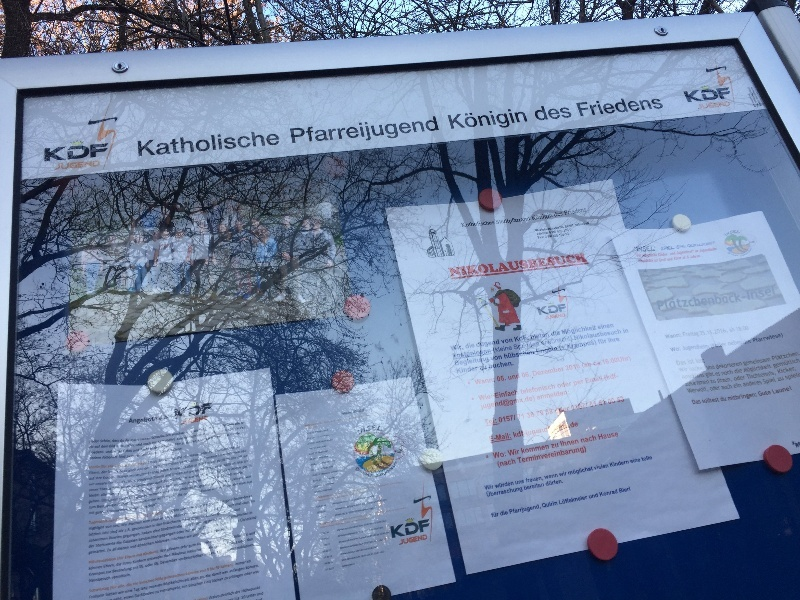text: (97, 445, 112, 498), (113, 445, 128, 498), (129, 445, 144, 498), (145, 445, 160, 498), (161, 445, 176, 498), (177, 445, 192, 498), (193, 445, 208, 498), (209, 445, 224, 498), (225, 445, 240, 498), (97, 532, 112, 579), (113, 532, 128, 579), (129, 532, 144, 579), (145, 532, 160, 579), (161, 532, 176, 579), (177, 532, 192, 579), (193, 532, 208, 579), (209, 532, 224, 579), (225, 532, 240, 579), (241, 532, 256, 579), (241, 445, 254, 498), (241, 495, 257, 538), (97, 495, 112, 538), (113, 495, 128, 538), (129, 495, 144, 538), (145, 495, 160, 538), (161, 495, 176, 538), (177, 495, 192, 538), (193, 495, 208, 538), (209, 495, 224, 538), (225, 495, 240, 538), (97, 476, 112, 516), (113, 476, 128, 516), (129, 476, 144, 516), (145, 476, 160, 516), (161, 476, 176, 516), (177, 476, 192, 516), (193, 476, 208, 516), (209, 476, 224, 516), (225, 476, 240, 516), (97, 516, 112, 555), (113, 516, 128, 555), (129, 516, 144, 555), (145, 516, 160, 555), (161, 516, 176, 555), (177, 516, 192, 555), (193, 516, 208, 555), (209, 516, 224, 555), (225, 516, 240, 555), (241, 516, 256, 555), (97, 422, 112, 460), (113, 422, 128, 460), (129, 422, 144, 460), (145, 422, 160, 460), (161, 422, 176, 460), (177, 422, 192, 460), (193, 422, 208, 460), (209, 422, 224, 460), (225, 422, 240, 460), (241, 476, 254, 516), (305, 116, 320, 144), (321, 116, 336, 144), (337, 116, 352, 144), (353, 116, 368, 144), (369, 116, 384, 144), (385, 116, 400, 144), (401, 116, 416, 144), (417, 116, 432, 144), (145, 130, 160, 158), (161, 130, 176, 158), (177, 130, 192, 158), (193, 130, 208, 158), (209, 130, 224, 158), (225, 130, 240, 158), (241, 130, 256, 158), (257, 130, 272, 158), (290, 116, 304, 144), (657, 286, 672, 311), (673, 286, 688, 311), (689, 286, 704, 311), (705, 286, 720, 311), (721, 286, 736, 311), (737, 286, 752, 311), (753, 286, 768, 311), (89, 445, 96, 498), (449, 253, 464, 277), (465, 253, 480, 277), (481, 253, 496, 277), (497, 253, 512, 277), (513, 253, 528, 277), (529, 253, 544, 277), (545, 253, 560, 277), (561, 253, 576, 277), (89, 532, 96, 579), (88, 476, 96, 516), (577, 96, 592, 117), (593, 96, 608, 117), (609, 96, 624, 117), (625, 96, 640, 117), (641, 96, 656, 117), (449, 109, 464, 130), (465, 109, 480, 130), (481, 109, 496, 130), (497, 109, 512, 130), (513, 109, 528, 130), (385, 461, 400, 482), (89, 495, 96, 538), (401, 519, 416, 539), (49, 143, 64, 162), (65, 143, 80, 162), (81, 143, 96, 162), (273, 130, 283, 158), (417, 519, 431, 539), (89, 516, 96, 555), (257, 516, 264, 555), (545, 105, 560, 123), (529, 446, 544, 464), (545, 446, 560, 464), (561, 446, 576, 464), (97, 143, 111, 162), (241, 422, 248, 460), (577, 253, 588, 277), (689, 87, 704, 103), (705, 87, 720, 103), (561, 105, 574, 123), (90, 422, 96, 460), (481, 396, 496, 411), (497, 396, 512, 411), (513, 396, 528, 411), (721, 87, 735, 103), (433, 116, 441, 144), (513, 427, 528, 441), (529, 427, 544, 441), (517, 446, 528, 464), (577, 446, 588, 464), (545, 303, 560, 316), (513, 504, 528, 516), (545, 389, 560, 401), (561, 325, 576, 337), (577, 325, 592, 337), (401, 534, 416, 546), (391, 519, 400, 539), (769, 286, 776, 311), (657, 96, 665, 117), (138, 130, 144, 158), (498, 458, 512, 470), (785, 358, 800, 369), (577, 466, 592, 477), (577, 339, 592, 350), (577, 329, 592, 340), (593, 329, 608, 340), (465, 357, 480, 368), (353, 425, 368, 436), (145, 415, 160, 426), (529, 504, 542, 516), (369, 425, 383, 436), (130, 415, 144, 426), (65, 161, 80, 171), (81, 161, 96, 171), (737, 392, 752, 402), (753, 364, 768, 374), (753, 333, 768, 343), (769, 333, 784, 343), (561, 495, 576, 505), (497, 487, 512, 497), (593, 356, 608, 366), (609, 356, 624, 366), (545, 366, 560, 376), (545, 336, 560, 346), (513, 342, 528, 352), (465, 349, 480, 359), (497, 216, 512, 226), (513, 216, 528, 226), (193, 416, 208, 426), (545, 312, 560, 322), (377, 461, 384, 482), (741, 248, 752, 261), (545, 346, 558, 357), (609, 329, 622, 340), (357, 467, 368, 480), (754, 90, 768, 100), (705, 101, 720, 110), (705, 395, 720, 404), (785, 373, 800, 382), (753, 371, 768, 380), (785, 352, 800, 361), (753, 358, 768, 367), (721, 362, 736, 371), (689, 344, 704, 353), (529, 445, 544, 454), (497, 433, 512, 442), (513, 351, 528, 360), (772, 358, 784, 369), (417, 534, 428, 546), (161, 415, 173, 426), (561, 336, 574, 346), (529, 483, 545, 491), (497, 346, 513, 354), (497, 481, 512, 489), (561, 440, 576, 448), (481, 340, 496, 348), (209, 592, 224, 600), (563, 207, 576, 216), (529, 477, 545, 484), (498, 415, 512, 423), (530, 333, 544, 341), (514, 335, 528, 343), (577, 495, 588, 505), (513, 487, 524, 497), (533, 366, 544, 376), (529, 342, 540, 352), (453, 349, 464, 359), (481, 349, 492, 359), (538, 105, 544, 123), (772, 386, 784, 395), (772, 352, 784, 361), (580, 435, 592, 444), (561, 389, 570, 401), (721, 384, 736, 391), (689, 387, 704, 394), (705, 372, 720, 379), (705, 329, 720, 336), (689, 241, 704, 248), (529, 396, 536, 411), (497, 362, 512, 369), (465, 220, 480, 227), (161, 586, 176, 593), (531, 213, 544, 221), (177, 578, 190, 586), (726, 392, 736, 402), (486, 487, 496, 497), (721, 101, 732, 110), (567, 339, 576, 350), (455, 357, 464, 368), (481, 357, 490, 368), (722, 369, 736, 376), (546, 479, 560, 486), (610, 460, 624, 467), (546, 409, 560, 416), (481, 378, 495, 385), (481, 220, 495, 227), (242, 587, 256, 594), (97, 576, 111, 583), (785, 367, 797, 375), (164, 578, 176, 586), (164, 573, 176, 581), (721, 377, 734, 384), (545, 501, 558, 508), (465, 366, 478, 373), (537, 303, 544, 316), (689, 374, 704, 380), (641, 246, 656, 252), (641, 456, 656, 462), (593, 464, 608, 470), (609, 373, 619, 382), (497, 376, 512, 382), (465, 343, 480, 349), (577, 207, 587, 216), (353, 408, 368, 414), (113, 574, 128, 580), (568, 466, 576, 477), (577, 403, 588, 411), (565, 363, 576, 371), (536, 346, 544, 357), (229, 574, 240, 582), (724, 230, 736, 237), (545, 474, 559, 480), (537, 389, 544, 401), (450, 345, 464, 351), (340, 543, 352, 550), (338, 532, 352, 538), (737, 373, 746, 382), (743, 358, 752, 367), (710, 384, 720, 392), (744, 364, 752, 374), (598, 433, 608, 441), (609, 433, 619, 441), (497, 451, 507, 459), (593, 375, 603, 383), (561, 381, 571, 389), (225, 592, 235, 600), (184, 416, 192, 426), (737, 326, 750, 332), (339, 538, 352, 544), (561, 303, 567, 316), (517, 413, 528, 420), (485, 418, 496, 425), (581, 362, 592, 369), (597, 338, 608, 345), (597, 323, 608, 330), (44, 143, 48, 162), (721, 397, 736, 402), (689, 367, 704, 372), (353, 518, 368, 523), (353, 515, 368, 520), (337, 500, 352, 505), (257, 592, 272, 597), (769, 371, 777, 380), (705, 248, 717, 254), (599, 489, 608, 497), (609, 489, 618, 497), (561, 406, 570, 414), (504, 351, 512, 360), (758, 391, 768, 398), (742, 381, 752, 388), (753, 381, 763, 388), (710, 343, 720, 350), (705, 241, 715, 248), (625, 356, 632, 366), (353, 543, 363, 550), (338, 527, 352, 532), (354, 497, 368, 502), (386, 409, 400, 414), (501, 511, 512, 517), (629, 458, 640, 464), (609, 337, 620, 343), (593, 339, 599, 350), (193, 582, 204, 588), (149, 584, 160, 590), (707, 365, 720, 370), (643, 253, 656, 258), (515, 480, 528, 485), (371, 527, 384, 532), (323, 549, 336, 554), (337, 506, 350, 511), (97, 588, 110, 593), (684, 87, 688, 103), (776, 367, 784, 375), (753, 87, 757, 103), (545, 213, 553, 221), (177, 573, 185, 581), (785, 386, 792, 395), (769, 377, 776, 386), (745, 371, 752, 380), (521, 445, 528, 454), (489, 433, 496, 442), (97, 161, 103, 171), (753, 104, 768, 108), (660, 258, 672, 263), (678, 250, 688, 256), (662, 246, 672, 252), (550, 331, 560, 337), (342, 557, 352, 563), (340, 551, 352, 556), (401, 507, 416, 511), (321, 510, 336, 514), (388, 482, 400, 487), (321, 472, 336, 476), (241, 596, 256, 600), (244, 572, 256, 577), (212, 572, 224, 577), (145, 579, 155, 585), (561, 312, 567, 322), (658, 253, 672, 257), (513, 449, 520, 457), (536, 410, 544, 417), (585, 375, 592, 383), (488, 362, 496, 369), (322, 537, 336, 541), (321, 525, 335, 529), (322, 461, 336, 465), (210, 567, 224, 571), (689, 332, 700, 337), (677, 245, 688, 250), (485, 485, 496, 490), (501, 339, 512, 344), (357, 487, 368, 492), (353, 415, 364, 420), (213, 578, 224, 583), (762, 377, 768, 386), (737, 362, 743, 371), (759, 100, 768, 106), (529, 351, 535, 360), (691, 255, 704, 259), (641, 259, 654, 263), (577, 223, 590, 227), (369, 467, 373, 480), (387, 510, 400, 514), (323, 483, 336, 487), (59, 161, 64, 171), (753, 392, 758, 402), (769, 364, 774, 374), (545, 227, 555, 232), (342, 563, 352, 568), (369, 534, 379, 539), (321, 498, 331, 503), (246, 594, 256, 599), (246, 565, 256, 570), (230, 568, 240, 573), (721, 329, 728, 336), (529, 412, 536, 419), (513, 373, 520, 380), (457, 366, 464, 373), (89, 576, 96, 583), (692, 400, 704, 404), (676, 362, 688, 366), (756, 103, 768, 107), (570, 420, 576, 428), (600, 400, 608, 406), (554, 406, 560, 414), (593, 325, 597, 337), (564, 229, 576, 233), (564, 224, 576, 228), (552, 212, 560, 218), (356, 549, 368, 553), (340, 518, 352, 522), (356, 503, 368, 507), (727, 341, 736, 346), (683, 344, 688, 353), (705, 344, 710, 353), (673, 334, 682, 339), (551, 444, 560, 449), (545, 445, 550, 454), (535, 227, 544, 232), (321, 532, 336, 535), (337, 523, 352, 526), (305, 424, 320, 427), (225, 564, 234, 569), (119, 584, 128, 589), (565, 233, 576, 237), (341, 411, 352, 415), (325, 562, 336, 566), (373, 521, 384, 525), (309, 452, 320, 456), (309, 442, 320, 446), (133, 582, 144, 586), (674, 257, 688, 260), (625, 487, 631, 494), (545, 427, 548, 441), (617, 397, 624, 403), (609, 398, 616, 404), (577, 380, 583, 387), (521, 372, 528, 378), (370, 541, 384, 544), (322, 505, 336, 508), (776, 377, 784, 382), (710, 380, 720, 384), (696, 380, 704, 385), (696, 359, 704, 364), (744, 340, 752, 345), (673, 347, 681, 352), (571, 403, 576, 411), (545, 333, 550, 341), (326, 568, 336, 572), (374, 552, 384, 556), (353, 492, 363, 496), (321, 429, 329, 434), (134, 588, 144, 592), (547, 235, 560, 238), (371, 553, 384, 556), (323, 544, 336, 547), (323, 467, 336, 470), (323, 445, 336, 448), (700, 101, 704, 110), (732, 373, 736, 382), (737, 369, 743, 375), (682, 374, 688, 380), (716, 362, 720, 371), (679, 369, 688, 373), (695, 250, 704, 254), (593, 493, 599, 499), (509, 504, 512, 516), (561, 471, 567, 477), (513, 458, 516, 470), (593, 435, 597, 444), (604, 373, 608, 382), (356, 556, 368, 559), (324, 556, 336, 559), (353, 538, 359, 544), (321, 495, 330, 499), (324, 489, 336, 492), (737, 383, 742, 390), (721, 343, 726, 350), (665, 334, 672, 339), (729, 252, 736, 257), (619, 487, 624, 494), (475, 378, 480, 385), (609, 323, 614, 330), (177, 586, 182, 593), (89, 588, 96, 593), (373, 546, 384, 549), (341, 495, 352, 498), (325, 421, 336, 424), (750, 87, 752, 103), (524, 483, 528, 491), (508, 449, 512, 457), (577, 363, 581, 371), (492, 346, 496, 354), (476, 340, 480, 348), (536, 232, 544, 236), (321, 522, 329, 526), (312, 463, 320, 467), (200, 576, 208, 580), (216, 566, 224, 570), (689, 360, 695, 365), (730, 327, 736, 332), (689, 250, 694, 256), (561, 366, 564, 376), (541, 336, 544, 346), (497, 356, 503, 361), (545, 236, 560, 238), (550, 231, 560, 234), (529, 216, 532, 226), (374, 540, 384, 543), (353, 532, 358, 538), (342, 513, 352, 516), (369, 495, 375, 500), (353, 490, 368, 492), (321, 468, 336, 470), (321, 441, 336, 443), (310, 432, 320, 435), (186, 571, 192, 576), (193, 571, 199, 576), (139, 579, 144, 585), (705, 387, 709, 394), (716, 377, 720, 384), (689, 382, 696, 386), (700, 329, 704, 336), (625, 460, 629, 467), (593, 401, 597, 408), (508, 373, 512, 380), (553, 234, 560, 238), (329, 567, 336, 571), (361, 554, 368, 558), (361, 536, 368, 540), (377, 499, 384, 503), (321, 450, 328, 454), (338, 420, 352, 422), (313, 422, 320, 426), (257, 587, 261, 594), (701, 395, 704, 404), (311, 458, 320, 461), (327, 439, 336, 442), (343, 418, 352, 421), (183, 586, 192, 589), (247, 560, 256, 563), (307, 438, 320, 440), (307, 433, 320, 435), (705, 380, 710, 385), (737, 341, 742, 346), (683, 332, 688, 337), (491, 513, 496, 518), (491, 356, 496, 361), (385, 531, 390, 536), (363, 507, 368, 512), (369, 507, 374, 512), (353, 510, 358, 515), (331, 496, 336, 501), (315, 429, 320, 434), (241, 568, 246, 573), (235, 561, 240, 566), (241, 561, 246, 566), (493, 451, 496, 459), (557, 381, 560, 389), (481, 366, 487, 370), (561, 345, 565, 351), (497, 340, 500, 348), (538, 236, 544, 240), (552, 231, 560, 234), (360, 525, 368, 528), (353, 526, 359, 530), (312, 474, 320, 477), (241, 574, 244, 582), (193, 577, 199, 581), (200, 570, 208, 573), (574, 329, 576, 340), (325, 516, 336, 518), (325, 505, 336, 507), (309, 428, 320, 430), (529, 109, 530, 130), (769, 391, 772, 398), (733, 383, 736, 390), (737, 230, 740, 237), (541, 501, 544, 508), (561, 479, 564, 486), (461, 220, 464, 227), (361, 549, 368, 552), (393, 509, 400, 512), (313, 485, 320, 488), (313, 480, 320, 483), (329, 466, 336, 469), (313, 437, 320, 440), (715, 372, 720, 376), (683, 256, 688, 260), (667, 258, 672, 262), (625, 329, 629, 334), (555, 226, 560, 230), (380, 531, 384, 536), (326, 532, 336, 534), (331, 520, 336, 524), (374, 501, 384, 503), (379, 484, 384, 488), (369, 487, 373, 492), (315, 490, 320, 494), (310, 448, 320, 450), (326, 435, 336, 437), (235, 591, 240, 595), (156, 577, 160, 582), (769, 358, 771, 367), (750, 94, 752, 103), (701, 248, 704, 254), (673, 246, 676, 252), (637, 246, 640, 252), (589, 493, 592, 499), (353, 557, 356, 563), (330, 555, 336, 558), (359, 510, 368, 512), (346, 512, 352, 515), (362, 503, 368, 506), (330, 477, 336, 480), (189, 582, 192, 588), (129, 574, 132, 580), (577, 440, 579, 448), (577, 420, 579, 428), (513, 415, 515, 423), (561, 233, 565, 237), (545, 232, 549, 236), (369, 547, 373, 551), (364, 542, 368, 546), (380, 526, 384, 530), (321, 457, 329, 459), (225, 571, 229, 575), (113, 586, 117, 590), (363, 514, 368, 517), (337, 514, 342, 517), (337, 496, 340, 501), (331, 471, 336, 474), (315, 452, 320, 455), (349, 415, 352, 420), (205, 580, 208, 585), (209, 580, 212, 585), (257, 565, 260, 570), (221, 564, 224, 569), (526, 477, 528, 484), (590, 401, 592, 408), (574, 380, 576, 387), (513, 362, 515, 369), (753, 248, 754, 261), (685, 382, 688, 386), (673, 252, 676, 256), (637, 254, 640, 258), (561, 226, 565, 229), (561, 212, 563, 218), (380, 551, 384, 554), (364, 548, 368, 551), (380, 539, 384, 542), (365, 529, 368, 533), (362, 531, 368, 533), (364, 523, 368, 526), (369, 523, 373, 526), (346, 522, 352, 524), (369, 502, 373, 505), (316, 505, 320, 508), (317, 495, 320, 499), (316, 479, 320, 482), (332, 460, 336, 463), (314, 447, 320, 449), (321, 435, 325, 438), (321, 422, 324, 426), (253, 571, 256, 575), (257, 571, 260, 575), (225, 577, 228, 581), (156, 590, 160, 593), (161, 584, 163, 590), (129, 590, 133, 593), (593, 466, 594, 477), (670, 347, 672, 352), (559, 495, 560, 505), (497, 513, 499, 518), (571, 229, 576, 231), (353, 563, 355, 568), (353, 551, 355, 556), (331, 562, 336, 564), (350, 510, 352, 515), (401, 482, 403, 487), (331, 494, 336, 496), (161, 577, 163, 582), (753, 94, 754, 103), (557, 230, 560, 233), (349, 517, 352, 520), (317, 446, 320, 449), (317, 435, 320, 438), (141, 587, 144, 590), (145, 587, 148, 590), (129, 584, 132, 587), (495, 481, 496, 489), (513, 481, 514, 489), (350, 526, 352, 530), (385, 499, 387, 503), (385, 484, 387, 488), (321, 490, 323, 494), (312, 470, 320, 471), (316, 442, 320, 444), (332, 421, 336, 423), (222, 571, 224, 575), (110, 586, 112, 590), (687, 387, 688, 394), (527, 412, 528, 419), (735, 369, 736, 375), (705, 374, 706, 380), (750, 241, 752, 244), (753, 241, 755, 244), (559, 471, 560, 477), (607, 398, 608, 404), (559, 345, 560, 351), (561, 230, 563, 233), (385, 520, 387, 523), (353, 505, 355, 508), (318, 511, 320, 514), (333, 503, 336, 505), (318, 473, 320, 476), (314, 427, 320, 428), (206, 575, 208, 578), (209, 575, 211, 578), (126, 590, 128, 593), (687, 360, 688, 365), (737, 252, 738, 257), (623, 329, 624, 334), (367, 534, 368, 539), (367, 495, 368, 500), (319, 498, 320, 503), (655, 259, 656, 263), (657, 259, 658, 263), (639, 259, 640, 263), (671, 252, 672, 256), (641, 254, 642, 258), (479, 366, 480, 370), (559, 233, 560, 237), (575, 223, 576, 227), (369, 554, 370, 558), (369, 529, 370, 533), (337, 520, 338, 524), (318, 469, 320, 471), (319, 450, 320, 454), (366, 415, 368, 417), (191, 577, 192, 581), (207, 568, 208, 572), (689, 256, 690, 259), (559, 226, 560, 229), (385, 539, 386, 542), (383, 520, 384, 523), (335, 514, 336, 517), (351, 505, 352, 508), (321, 479, 322, 482), (337, 471, 338, 474), (321, 446, 322, 449), (127, 584, 128, 587), (351, 500, 352, 502), (369, 415, 370, 417)
